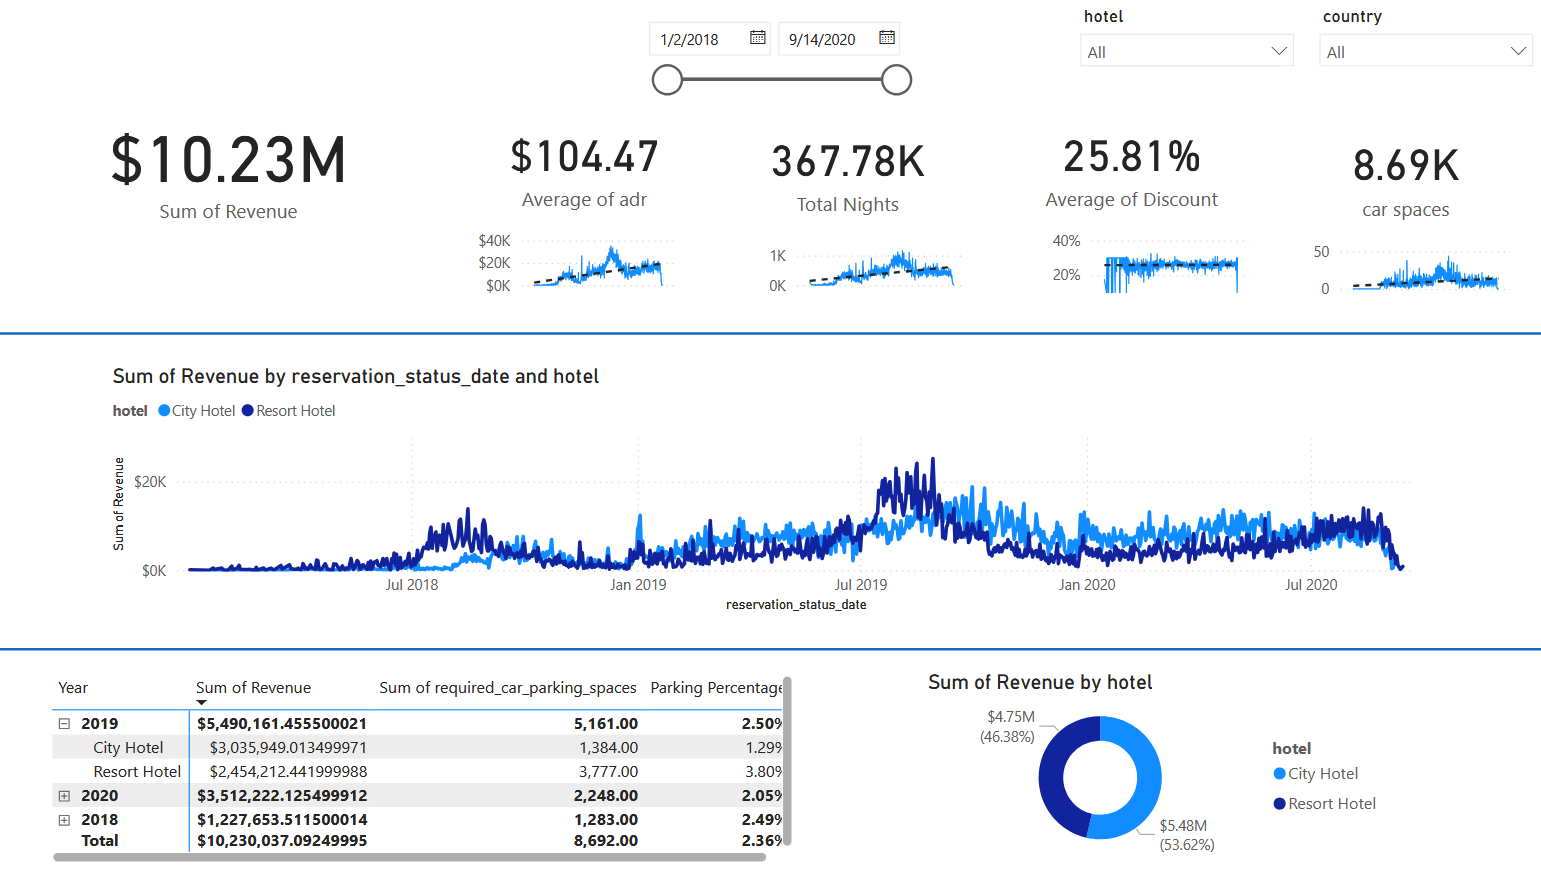

Layout of this report page (visuals, bound fields, positions):
{"tool":"powerbi","page":{"name":"Page 1","canvas":[1280,720],"ordinal":0},"visuals":[{"type":"shape","box":[0,136.2,1280,280.1],"z":0},{"type":"shape","box":[0,478.5,1280,116.7],"z":1000},{"type":"card","fields":{"Values":["Sum(Query1.Revenue)"]},"box":[67.1,30.2,246.1,211.1],"z":2000},{"type":"card","fields":{"Values":["Avg(Query1.adr)"]},"box":[382.2,46.7,205.2,178],"z":3000},{"type":"card","fields":{"Values":["Query1.Total Nights"]},"box":[600.1,50.6,205.2,178],"z":4000},{"type":"card","fields":{"Values":["Avg(Query1.Discount)"]},"box":[834.5,46.7,205.2,178],"z":5000},{"type":"lineChart","fields":{"Y":["Sum(Query1.Revenue)"],"Category":["Query1.reservation_status_date"],"Series":["Query1.hotel"]},"box":[89.5,300.5,1100.1,210.1],"z":6000},{"type":"slicer","fields":{"Values":["Query1.country"]},"box":[1082.6,0,197.4,65.2],"z":7000},{"type":"slicer","fields":{"Values":["Query1.hotel"]},"box":[885.1,0,197.4,65.2],"z":8000},{"type":"lineChart","fields":{"Y":["Sum(Query1.adr)"],"Category":["Query1.reservation_status_date"]},"box":[391,184.8,173.1,65.2],"z":9000},{"type":"lineChart","fields":{"Y":["Query1.Total Nights"],"Category":["Query1.reservation_status_date"]},"box":[632.2,184.8,173.1,65.2],"z":10000},{"type":"lineChart","fields":{"Y":["Avg(Query1.Discount)"],"Category":["Query1.reservation_status_date"]},"box":[866.6,184.8,173.1,65.2],"z":11000},{"type":"card","fields":{"Values":["Sum(Query1.required_car_parking_spaces)"]},"box":[1062.1,55.4,205.2,178],"z":12000},{"type":"lineChart","fields":{"Y":["Sum(Query1.required_car_parking_spaces)"],"Category":["Query1.reservation_status_date"]},"box":[1082.6,187.7,173.1,65.2],"z":13000},{"type":"donutChart","fields":{"Category":["Query1.hotel"],"Y":["Sum(Query1.Revenue)"]},"box":[764.5,554.4,390,160.5],"z":14000},{"type":"pivotTable","fields":{"Rows":["Query1.reservation_status_date.Variation.Date Hierarchy.Year","Query1.hotel"],"Values":["Sum(Query1.Revenue)","Sum(Query1.required_car_parking_spaces)","Query1.Parking Percentage"]},"box":[38.9,554.4,623.5,165.3],"z":15000},{"type":"slicer","fields":{"Values":["Query1.reservation_status_date"]},"box":[525.2,7.8,239.3,84.6],"z":15001}]}

Visuals, with their boxes in screenshot pixels (x1, y1, x2, y2), scaled from the page's 1280x720 canvas onto the 1541x872 screenshot:
shape: bbox=[0, 165, 1540, 504]
shape: bbox=[0, 580, 1540, 721]
card - Sum(Query1.Revenue): bbox=[81, 37, 377, 292]
card - Avg(Query1.adr): bbox=[460, 57, 707, 272]
card - Query1.Total Nights: bbox=[722, 61, 970, 277]
card - Avg(Query1.Discount): bbox=[1005, 57, 1252, 272]
lineChart - Sum(Query1.Revenue) x Query1.reservation_status_date: bbox=[108, 364, 1432, 618]
slicer - Query1.country: bbox=[1303, 0, 1540, 79]
slicer - Query1.hotel: bbox=[1066, 0, 1303, 79]
lineChart - Sum(Query1.adr) x Query1.reservation_status_date: bbox=[471, 224, 679, 303]
lineChart - Query1.Total Nights x Query1.reservation_status_date: bbox=[761, 224, 970, 303]
lineChart - Avg(Query1.Discount) x Query1.reservation_status_date: bbox=[1043, 224, 1252, 303]
card - Sum(Query1.required_car_parking_spaces): bbox=[1279, 67, 1526, 283]
lineChart - Sum(Query1.required_car_parking_spaces) x Query1.reservation_status_date: bbox=[1303, 227, 1512, 306]
donutChart - Query1.hotel x Sum(Query1.Revenue): bbox=[920, 671, 1390, 866]
pivotTable - Query1.reservation_status_date.Variation.Date Hierarchy.Year x Query1.hotel: bbox=[47, 671, 797, 871]
slicer - Query1.reservation_status_date: bbox=[632, 9, 920, 112]
